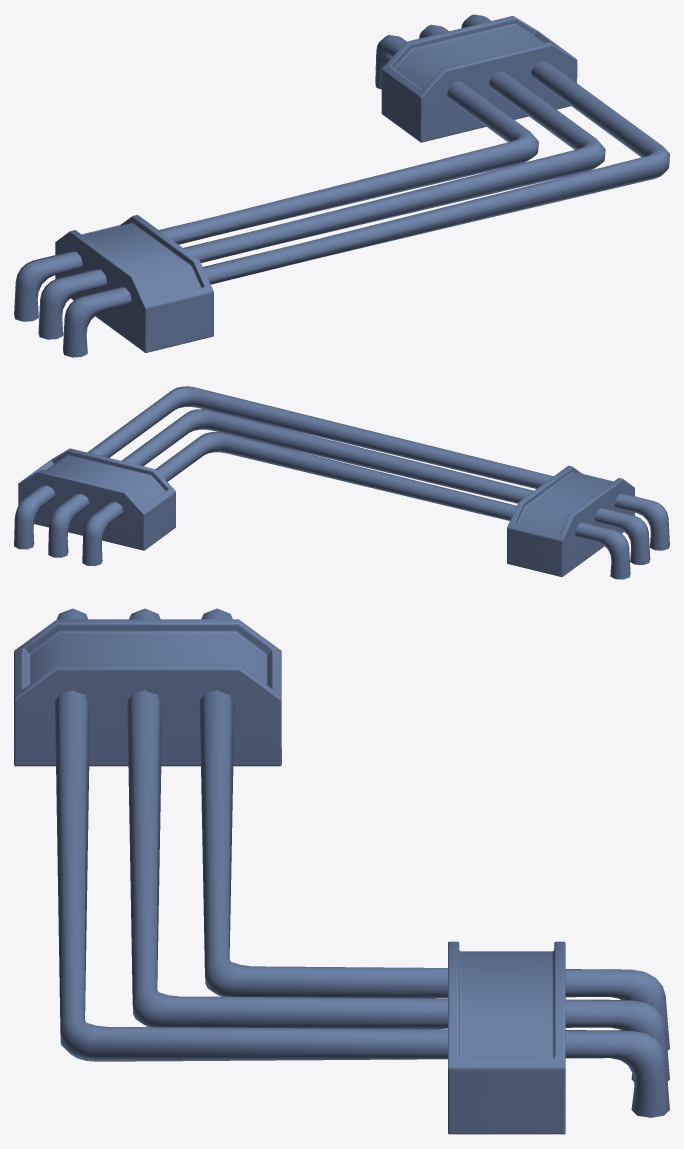
File: Pipes_L.fbx
3 views of the same model, one above another, from view 1: azimuth 30°, elevation 25°; view 2: azimuth 150°, elevation 25°; view 3: azimuth 270°, elevation 25° (orthographic). The views are drawn at different scales.
Visible parts, largest first — view 1: Pipes_L; view 2: Pipes_L; view 3: Pipes_L.
Part boxes in pixels (left/top/right/bottom): Pipes_L: left=14, top=14, right=669, bottom=357; Pipes_L: left=14, top=386, right=669, bottom=579; Pipes_L: left=14, top=608, right=669, bottom=1134.
Bounding box in the file's own units: 757 × 76.24 × 454.
